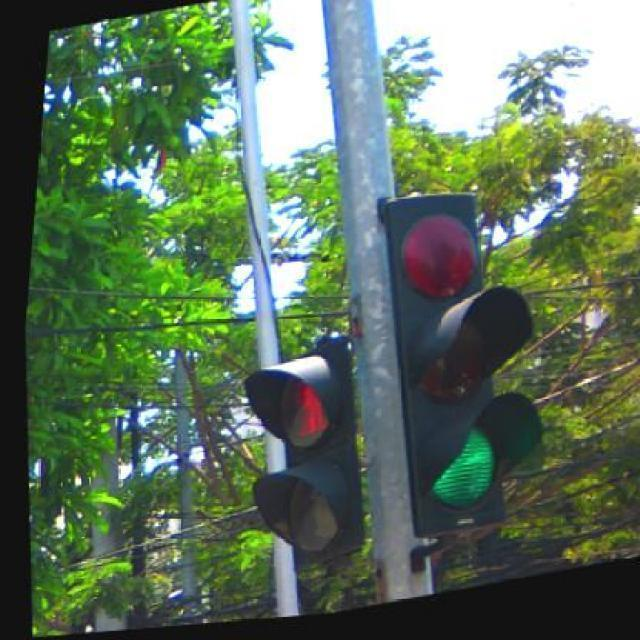green_light: (378, 192, 539, 534)
